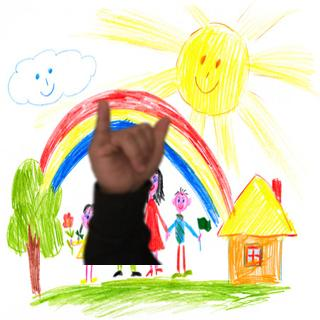HAVE: (82, 98, 179, 197)
